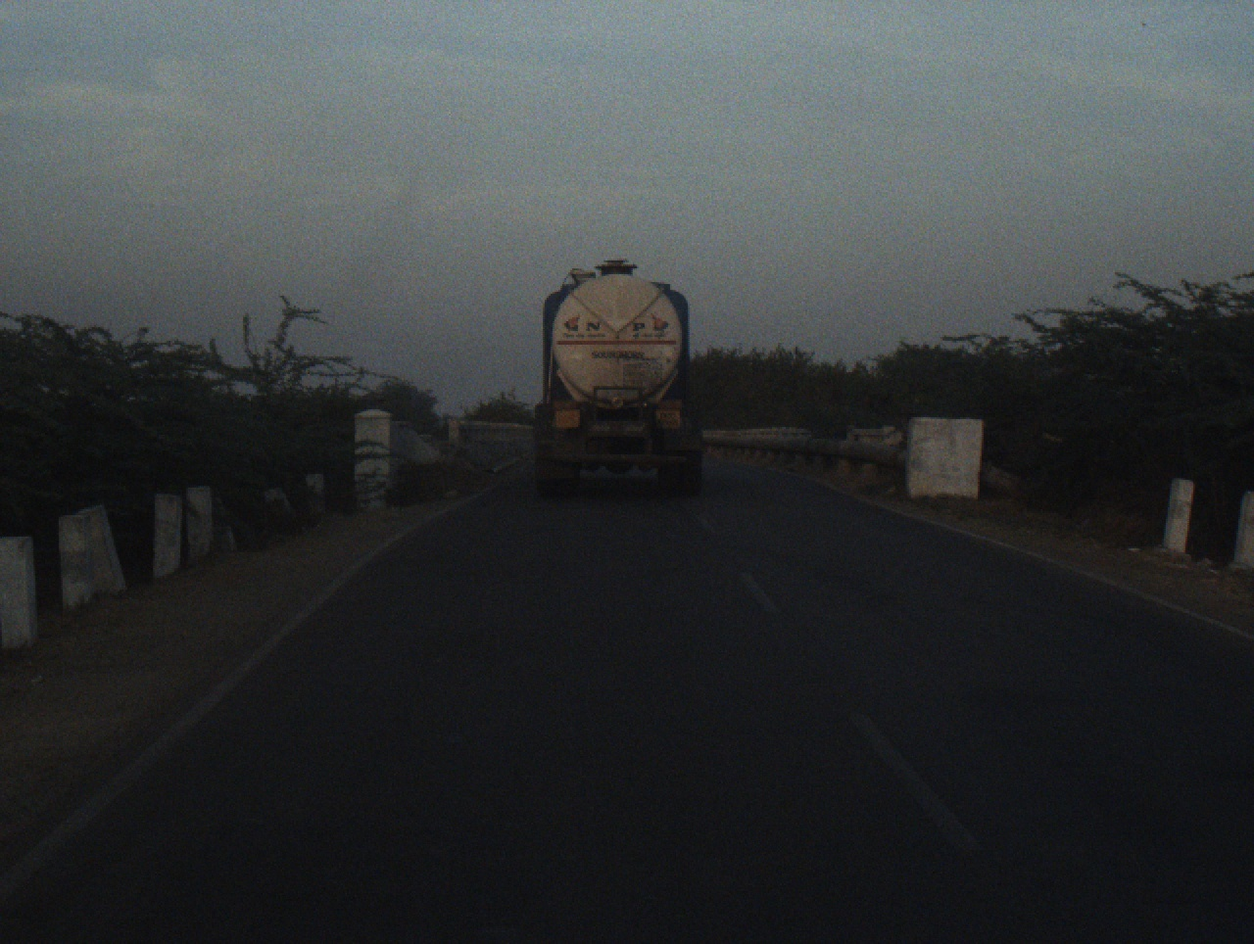truck: (535, 249, 703, 513)
